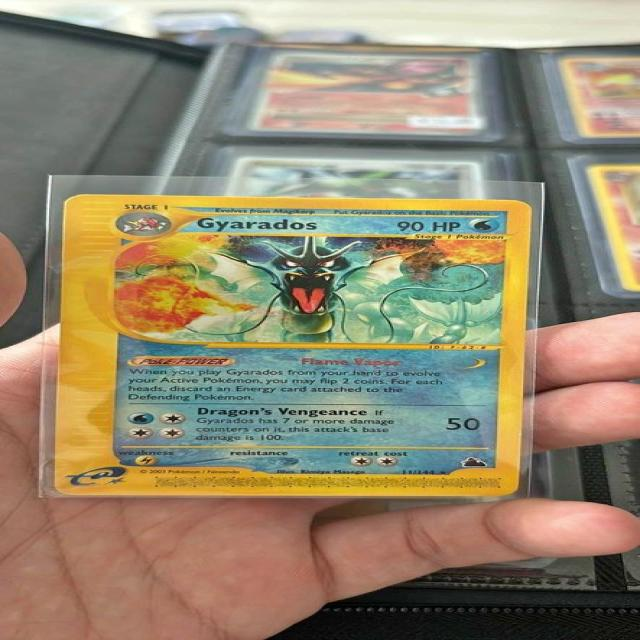card: (54, 194, 533, 497), (244, 53, 482, 137), (228, 159, 477, 200), (560, 57, 640, 138)
